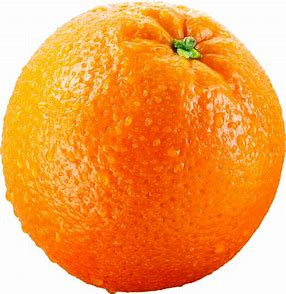orange: (1, 1, 285, 293)
